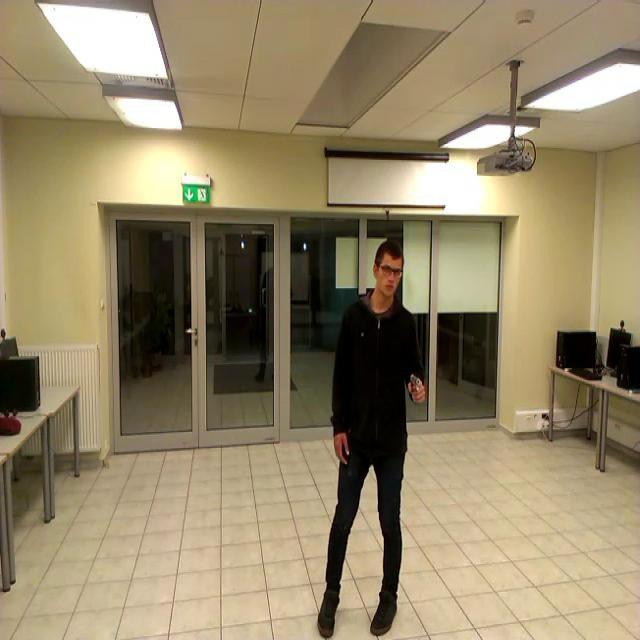weapon: (406, 373, 426, 404)
